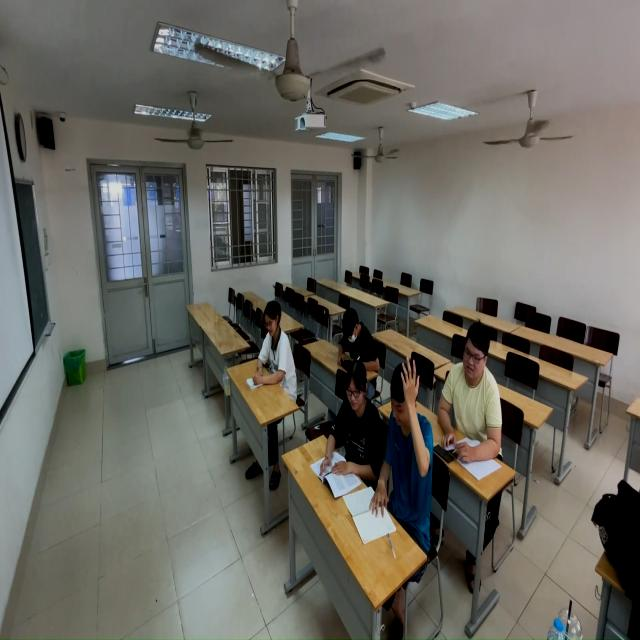raise_hand: (379, 352, 436, 532)
read: (437, 316, 509, 472), (309, 359, 379, 505), (247, 299, 296, 398), (336, 305, 381, 367)
